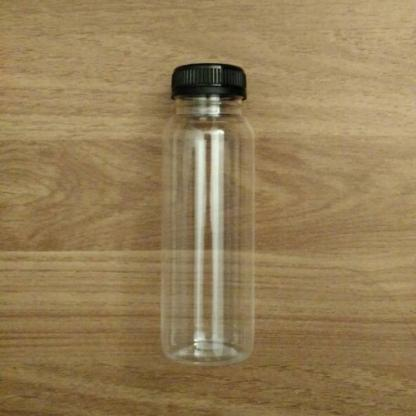Plastic Bottle: (162, 63, 258, 371)
